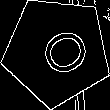O_SW: (25, 20, 89, 82)
